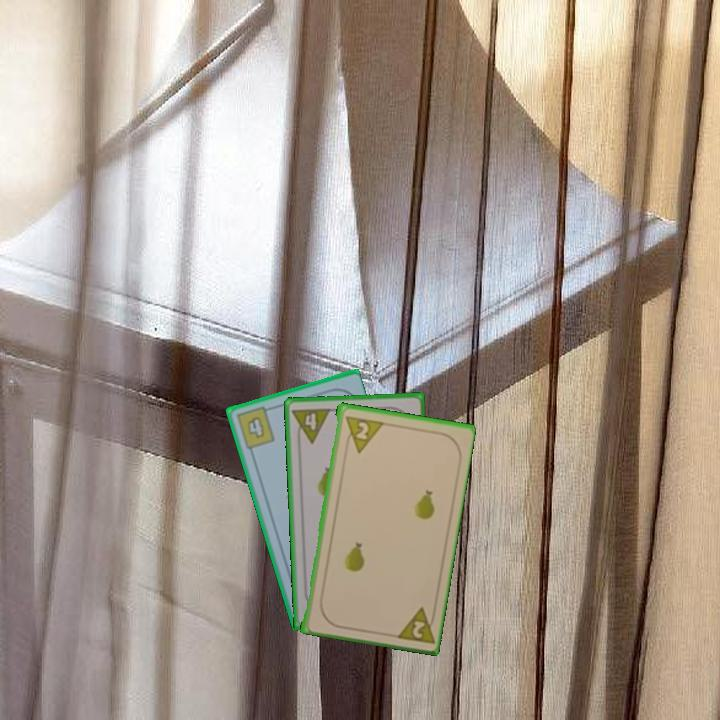2p: (391, 603, 438, 646), (341, 412, 384, 455)
4b: (232, 403, 278, 452)
4p: (289, 404, 333, 446)
